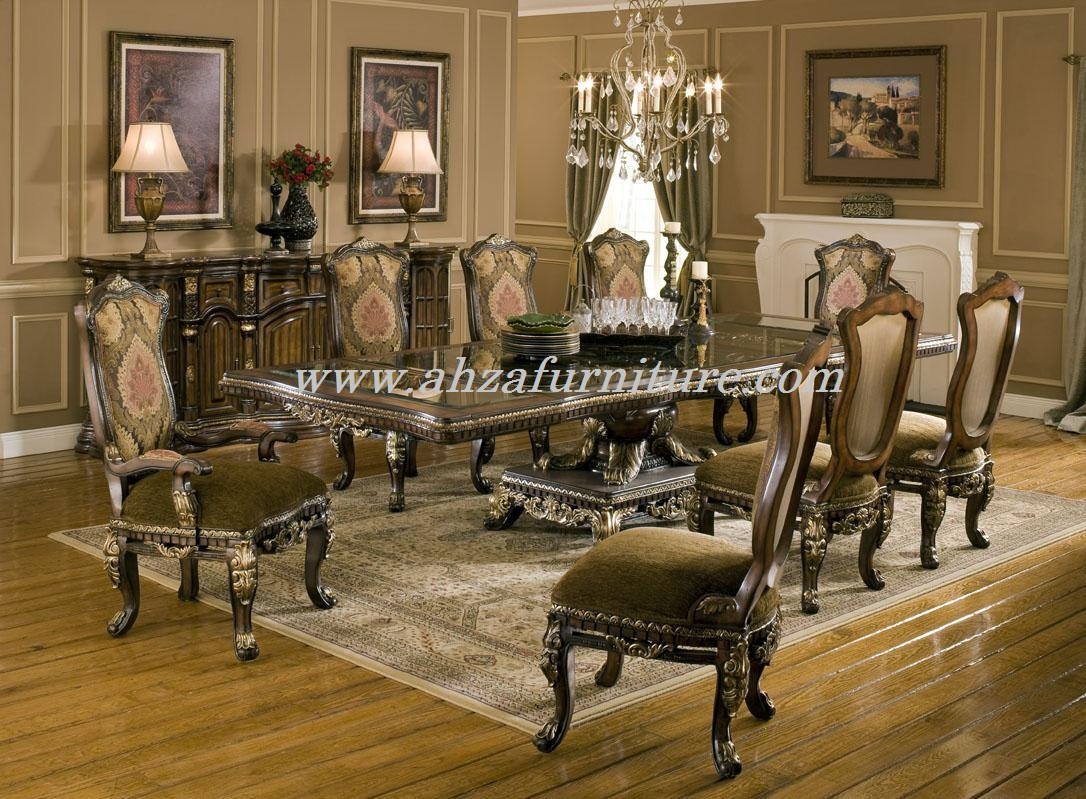Carving Chair: (57, 266, 345, 656), (558, 355, 812, 770), (812, 300, 994, 593)
